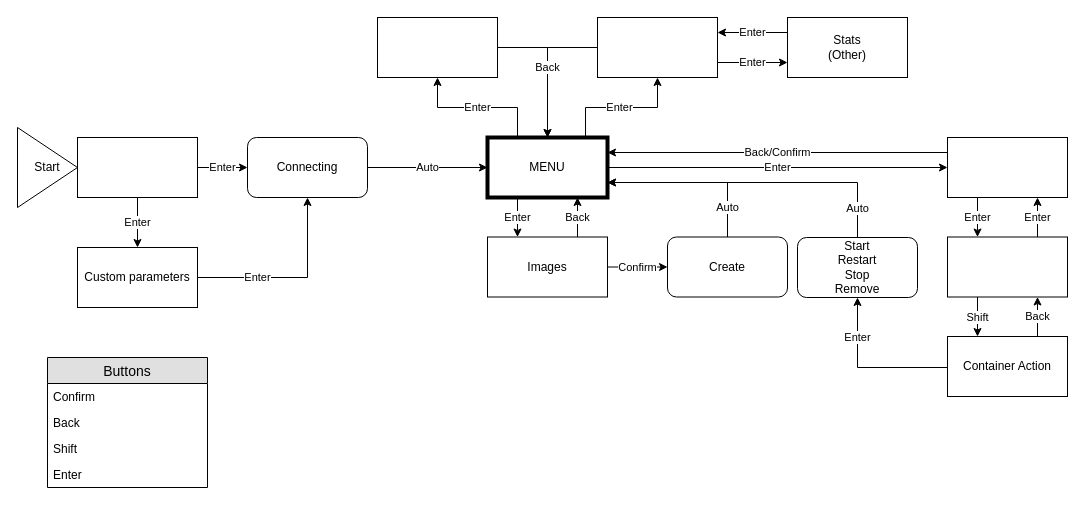
The diagram is 1085 pixels wide and 508 high, and some of its shapes have lost their labels. Each missing label, with the centre of its shape:
Alerts: the point at 437,47
Containers: the point at 1007,167
Containers Details: the point at 1007,266
Default Custom: the point at 137,167
Stats (Containers): the point at 657,47
